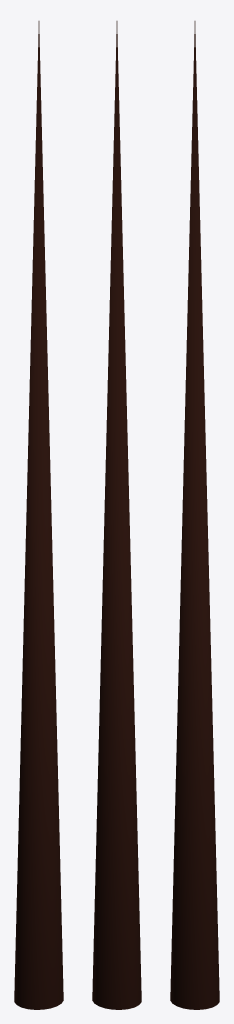
The model's file is beam rifle.dae.
The picture shows the model from 3 angles, left to right: view 1: azimuth 30°, elevation 25°; view 2: azimuth 150°, elevation 25°; view 3: azimuth 330°, elevation 25°; orthographic projection.
Parts seen in each view (by area): view 1: pCone1; view 2: pCone1; view 3: pCone1.
Part boxes in pixels (x1=…): pCone1: x1=14, y1=21, x2=63, y2=1009; pCone1: x1=92, y1=21, x2=141, y2=1009; pCone1: x1=170, y1=21, x2=219, y2=1009.
Size of the model in its own units: 0.7979 by 17.09 by 0.7398.
